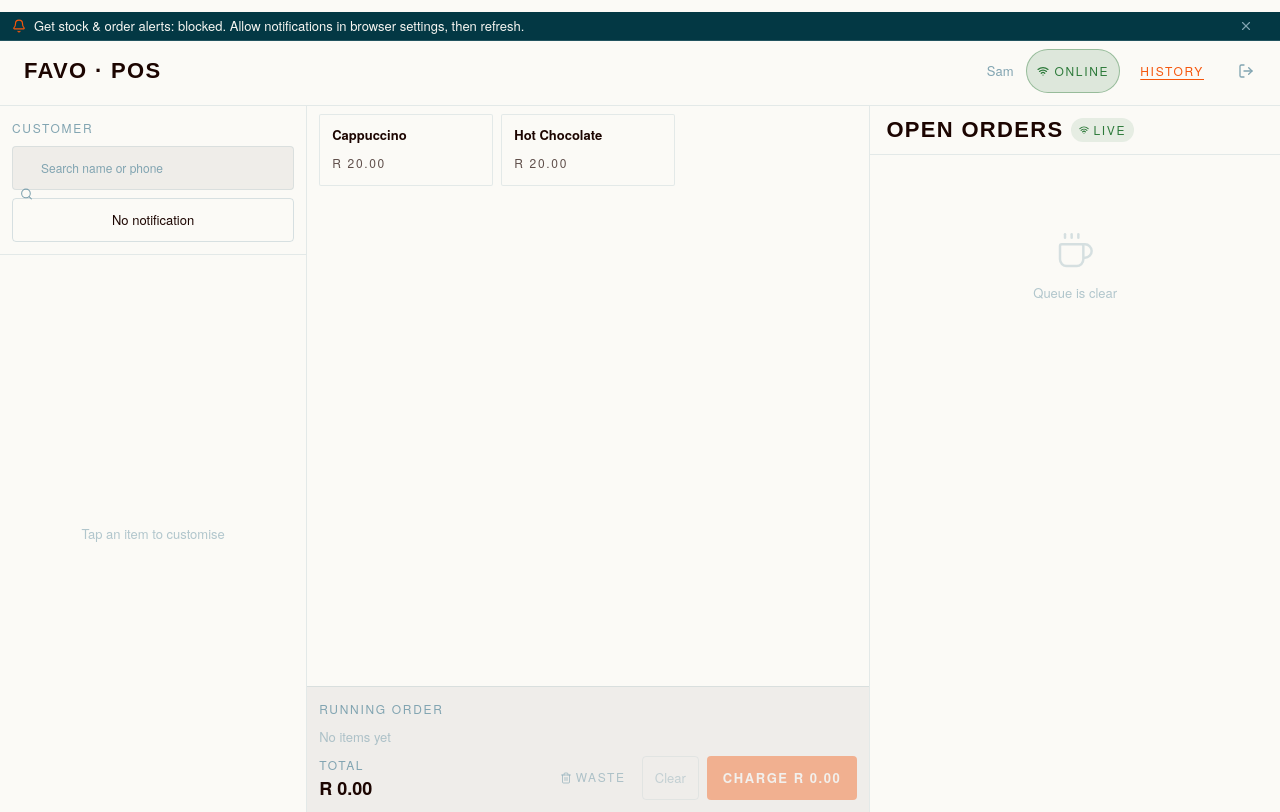
Test: AT-202 — shot picker (§6.2.3c, REQ-138, L48) › Sunday triple: the draft line reads '3 shots' at R30.00; a double stays its own line; total R50.00
The width and height of the screenshot is (1280, 812).
Click the button "Cappuccino R 20.00".
click(406, 150)  # box [319,114,493,186]
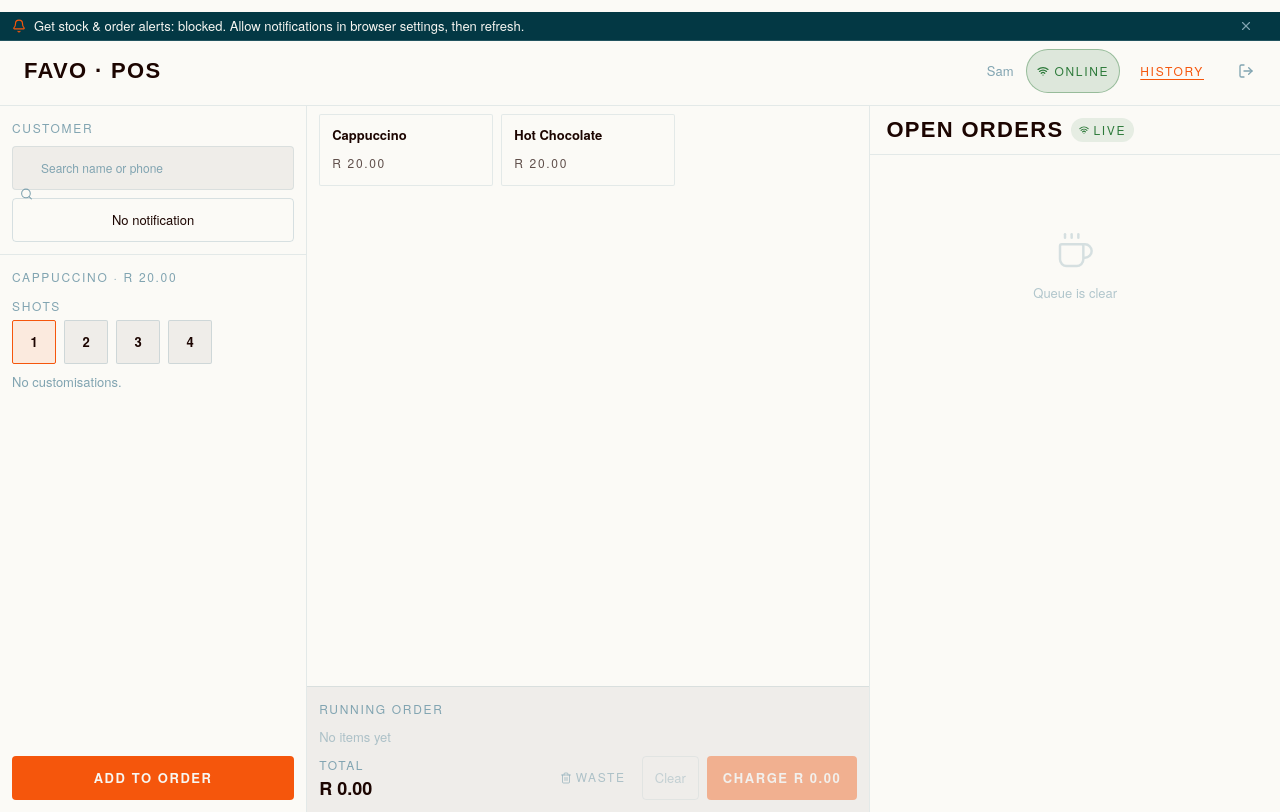
Click the button named "3 shots".
click(138, 342)  # box [116,320,160,364]
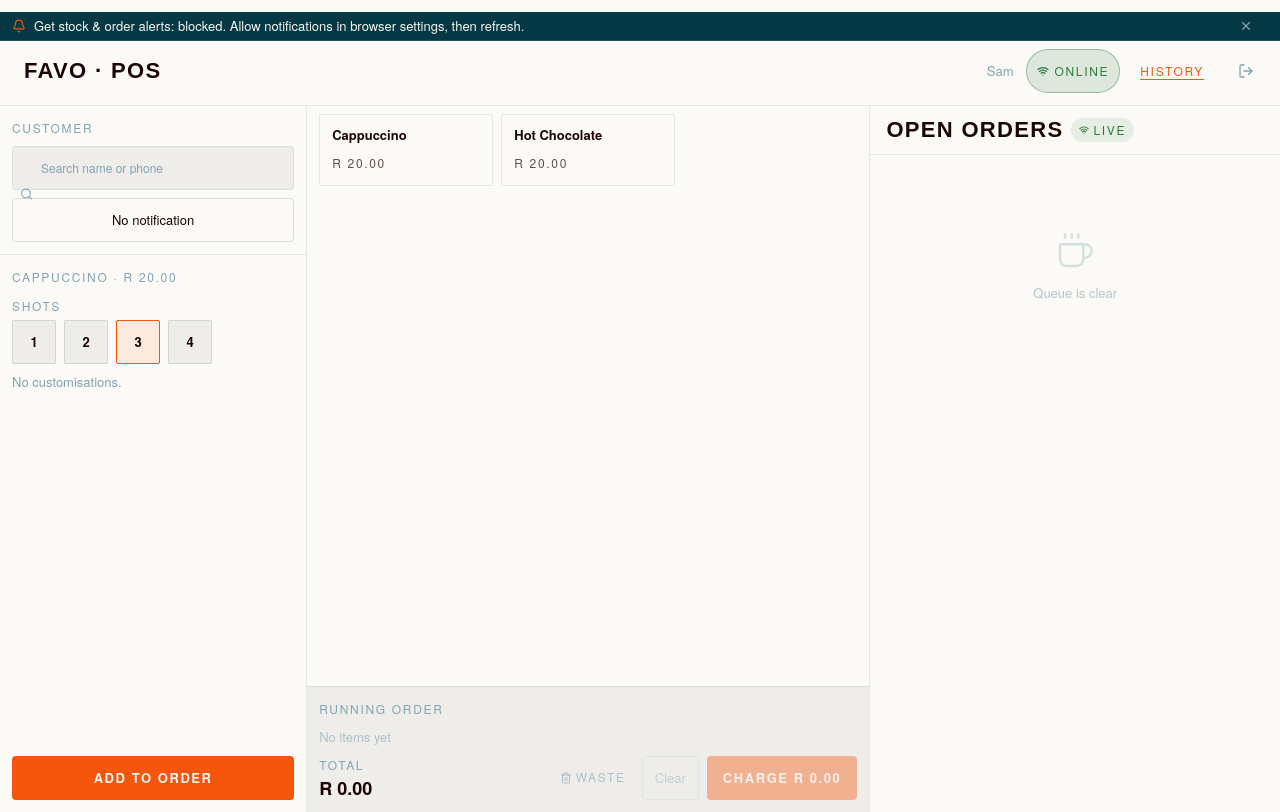
Click the button "Add to order".
click(153, 778)  # box [12,756,294,800]
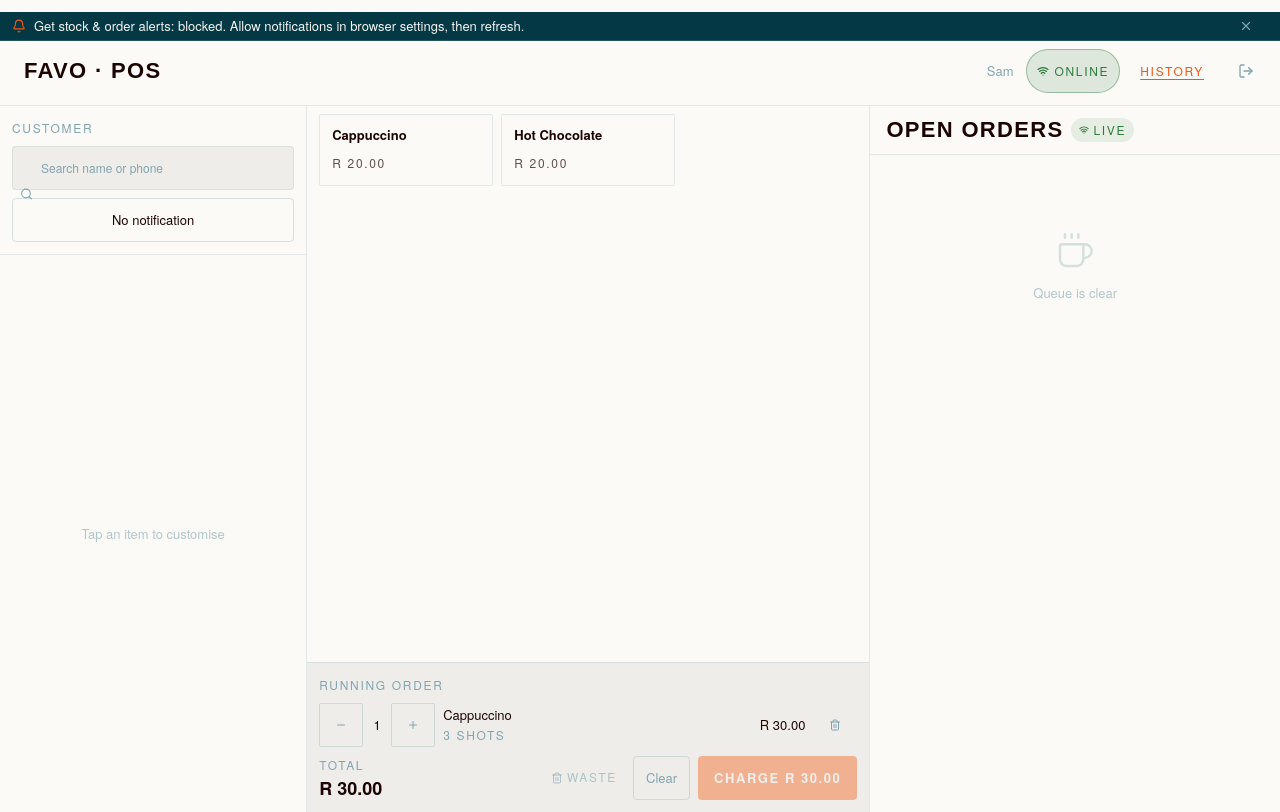
Click the button "Cappuccino R 20.00".
click(406, 150)  # box [319,114,493,186]
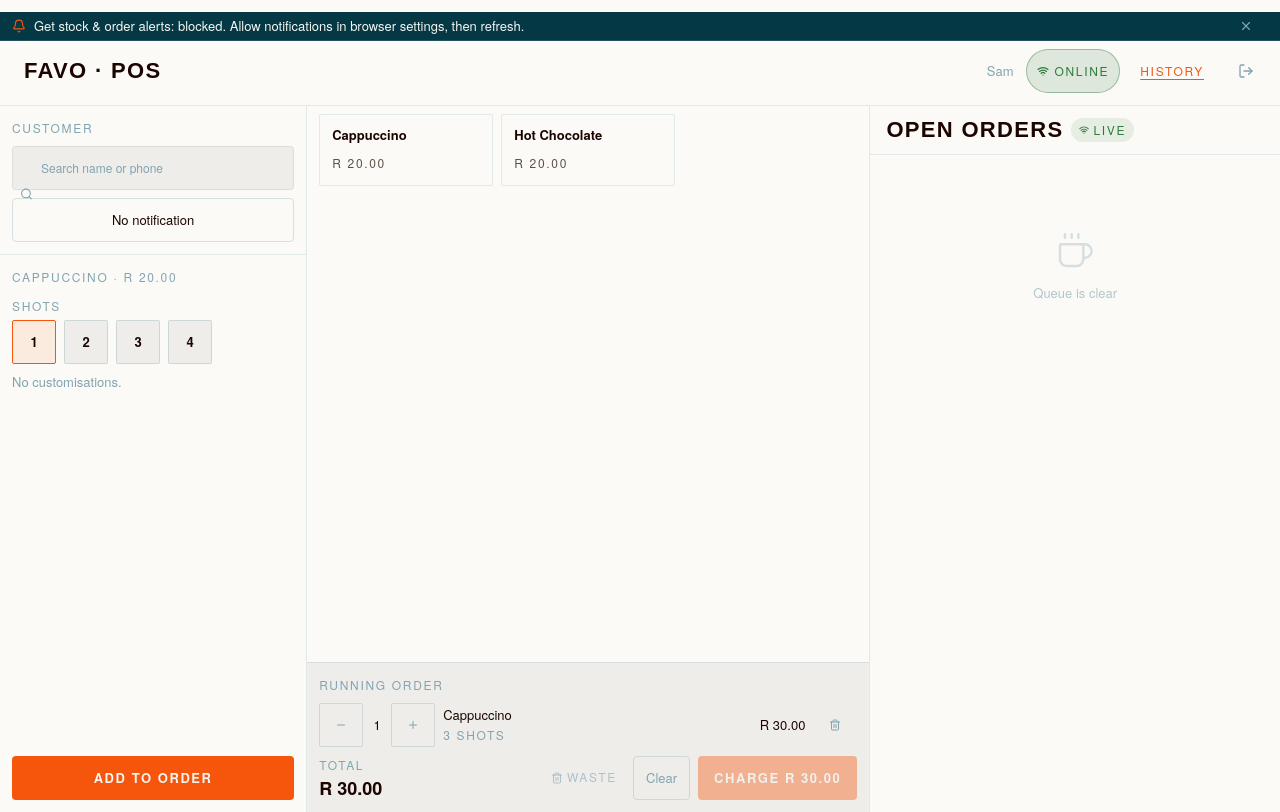
Click the button named "2 shots".
click(86, 342)  # box [64,320,108,364]
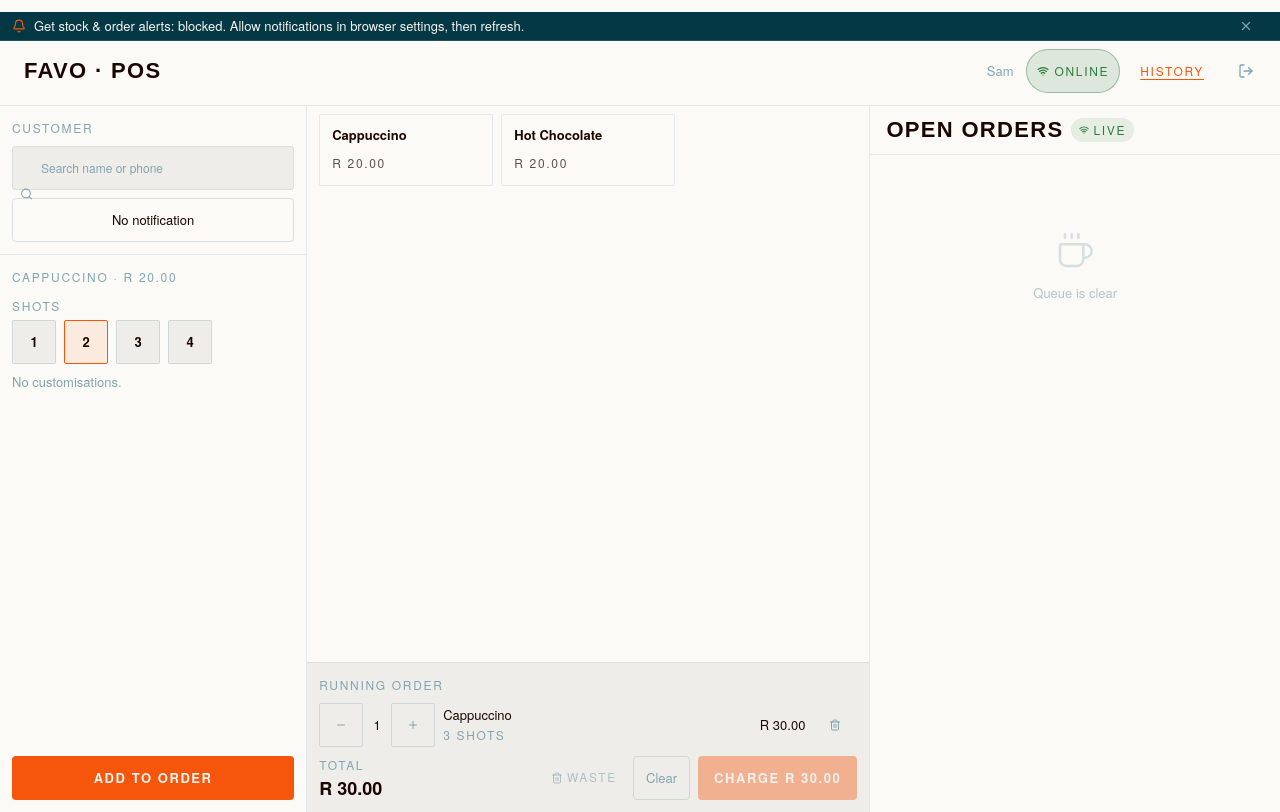
Click the button "Add to order".
click(153, 778)  # box [12,756,294,800]
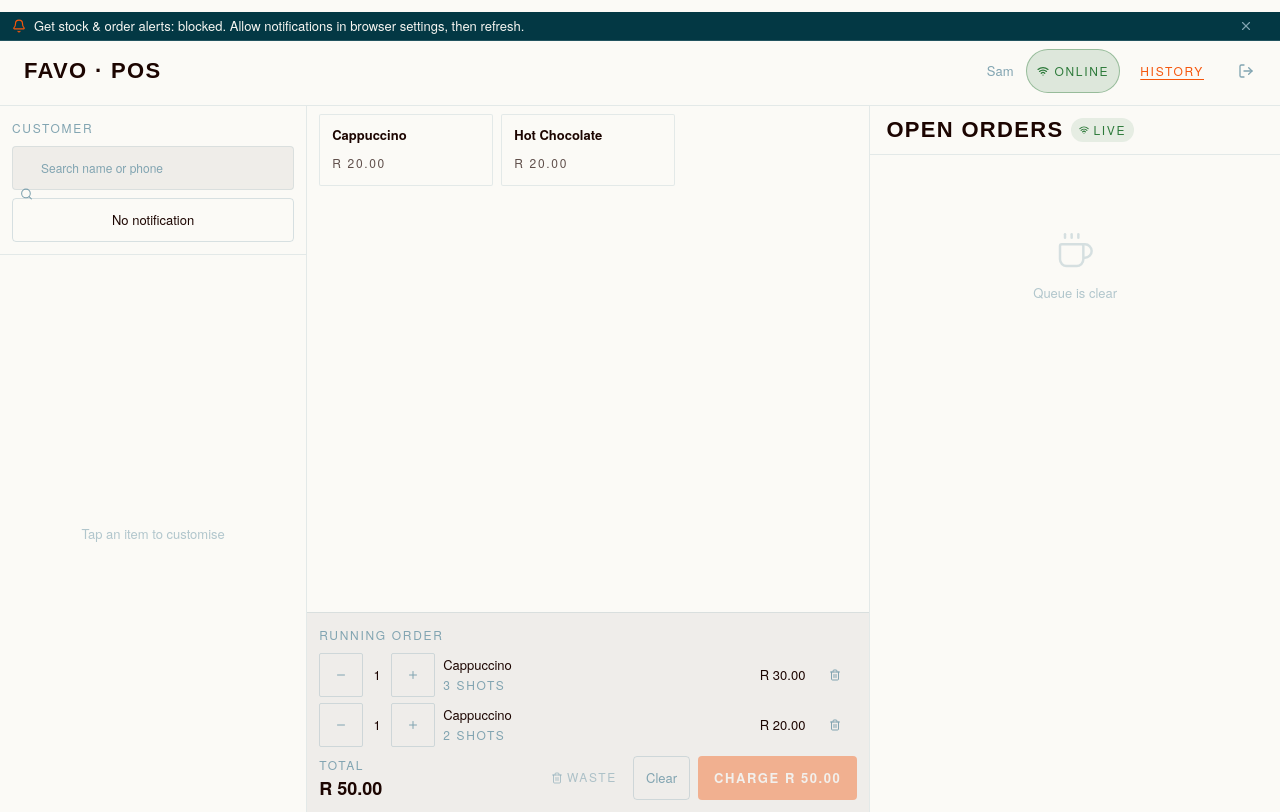
Expected: the text "3 shots" is shown, [443,676,506,693]
Expected: the text "2 shots" is shown, [443,726,506,743]
